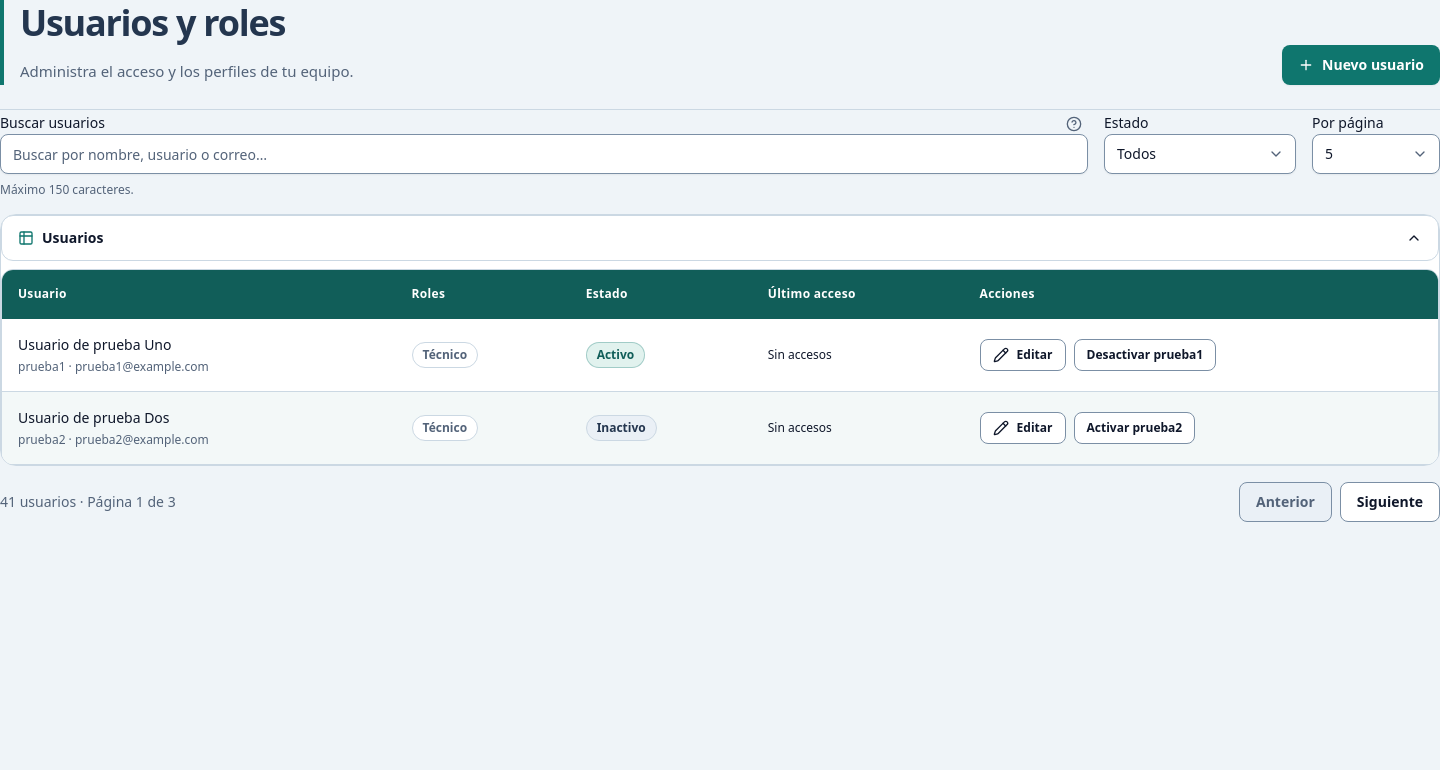
Test: administración de usuarios › aplica errores de validación o conflicto sin perder el formulario ni fingir guardado
This screenshot has width=1440, height=770.
Click the button with aria-label "Editar prueba2" at {"x": 1023, "y": 428}, box [980,412,1066,444]
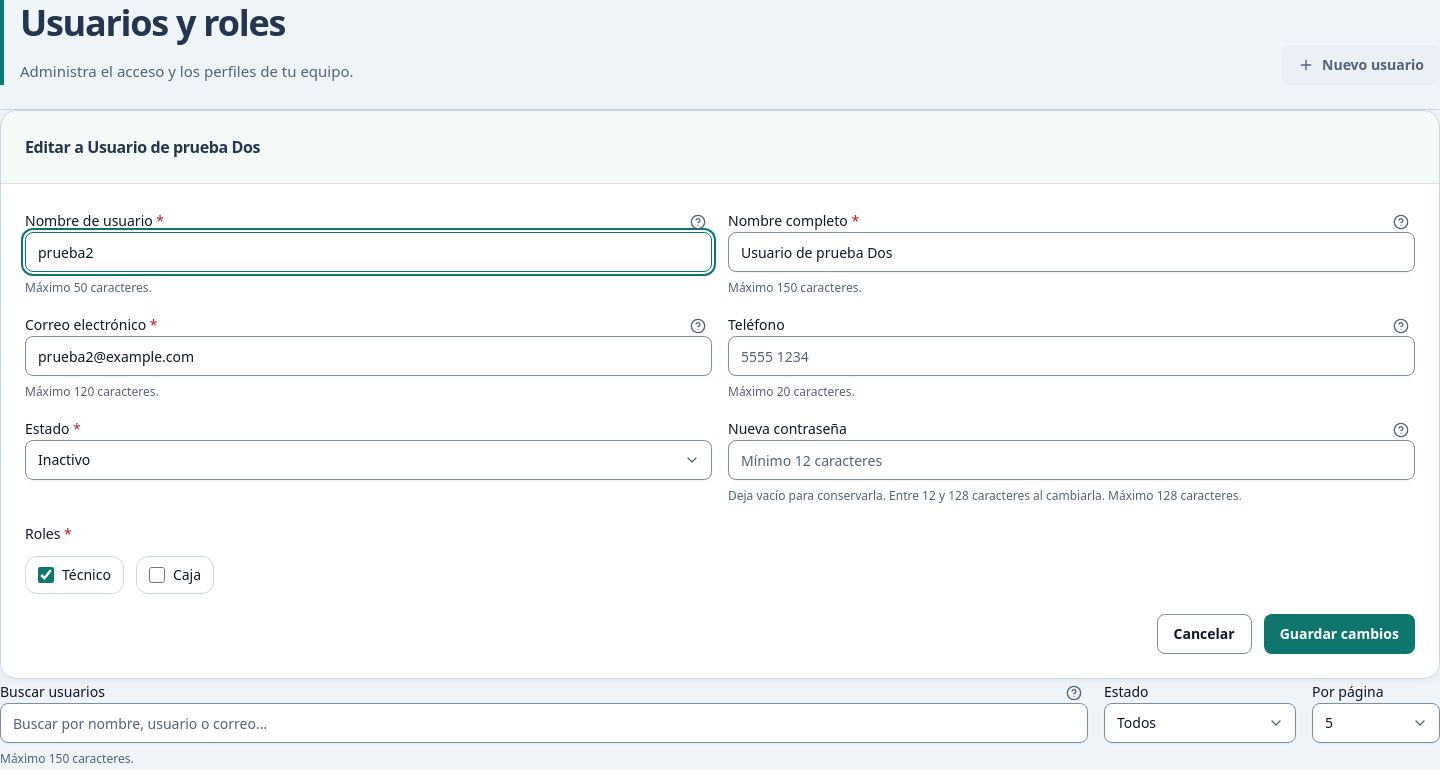
Click the button "Guardar cambios" at {"x": 1339, "y": 634}, box [1264,614,1415,654]
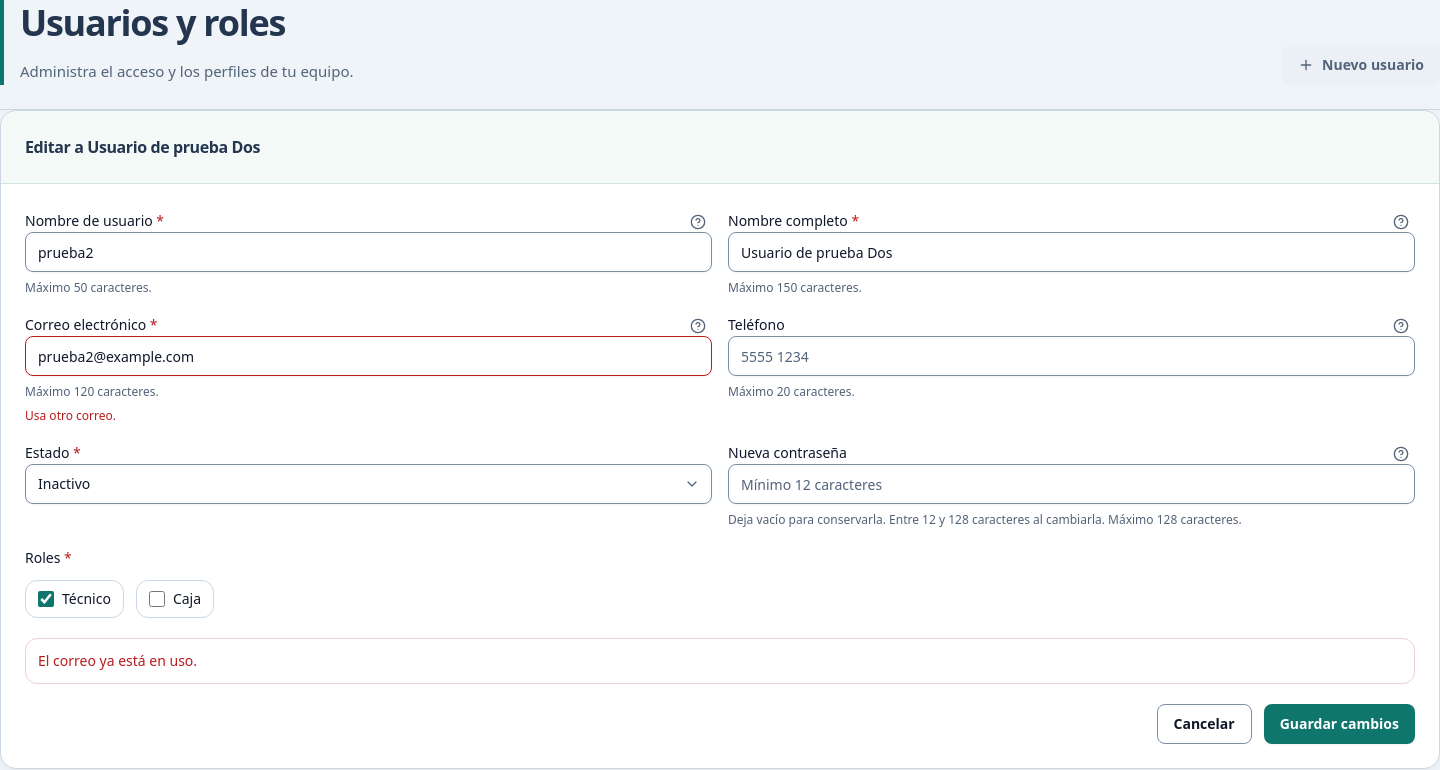
Expected: the field labelled "Correo electrónico *" holds "prueba2@example.com", [25,336,712,376]
Expected: the form named "Editar usuario" is shown
Expected: the text "El correo ya está en uso." is shown, [25,638,1415,684]
